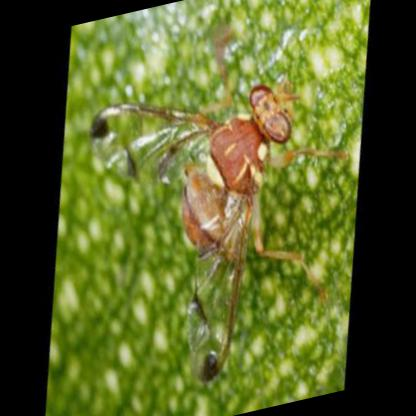fruit fly: (91, 69, 345, 382)
